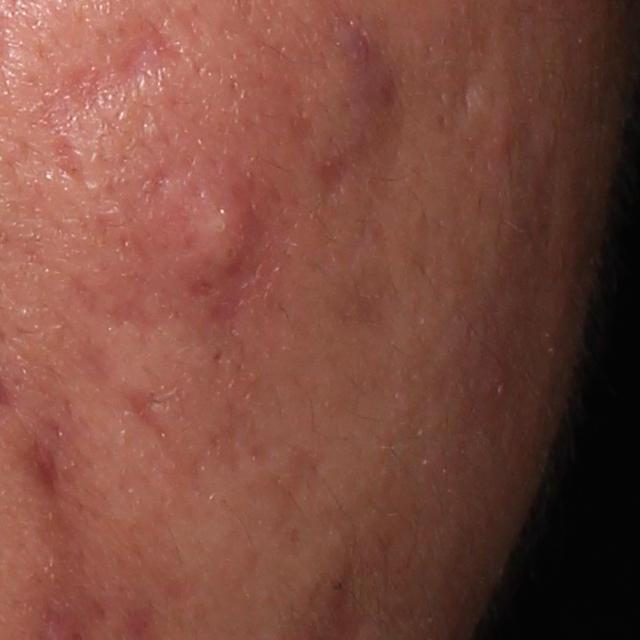atrophic_scar: (29, 7, 186, 204), (118, 221, 243, 331), (334, 28, 410, 194), (6, 414, 76, 512), (111, 374, 180, 453), (452, 36, 490, 140)
